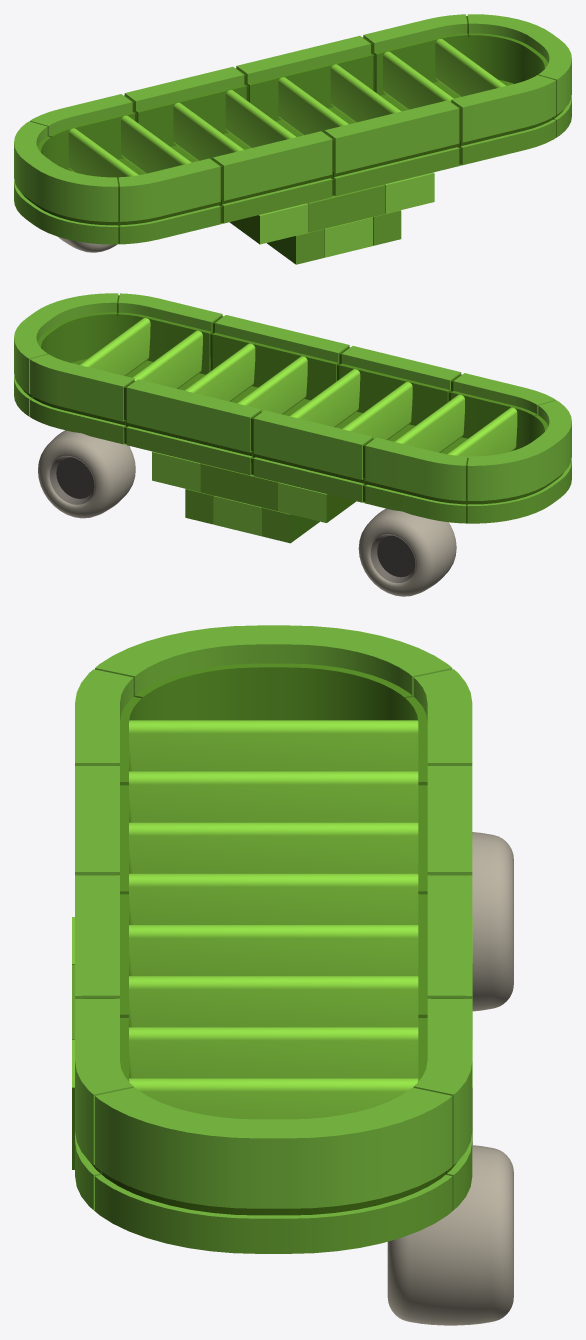
Rendered from GreenSlotTray.fbx.
The picture shows the model from 3 angles, top to bottom: view 1: azimuth 30°, elevation 25°; view 2: azimuth 150°, elevation 25°; view 3: azimuth 270°, elevation 25°; orthographic projection. The views are drawn at different scales.
Visible parts, largest first — view 1: GreenSlotTray, Wheels; view 2: GreenSlotTray, Wheels; view 3: GreenSlotTray, Wheels.
Boxes of the visible parts, left/top/right/bottom form: GreenSlotTray: left=14, top=14, right=571, bottom=264; Wheels: left=58, top=237, right=117, bottom=252; GreenSlotTray: left=14, top=293, right=571, bottom=543; Wheels: left=38, top=430, right=456, bottom=596; GreenSlotTray: left=72, top=625, right=472, bottom=1253; Wheels: left=387, top=832, right=513, bottom=1325.
Size of the model in its own units: 1068 by 269 by 389.
1 material, 1 textured.
